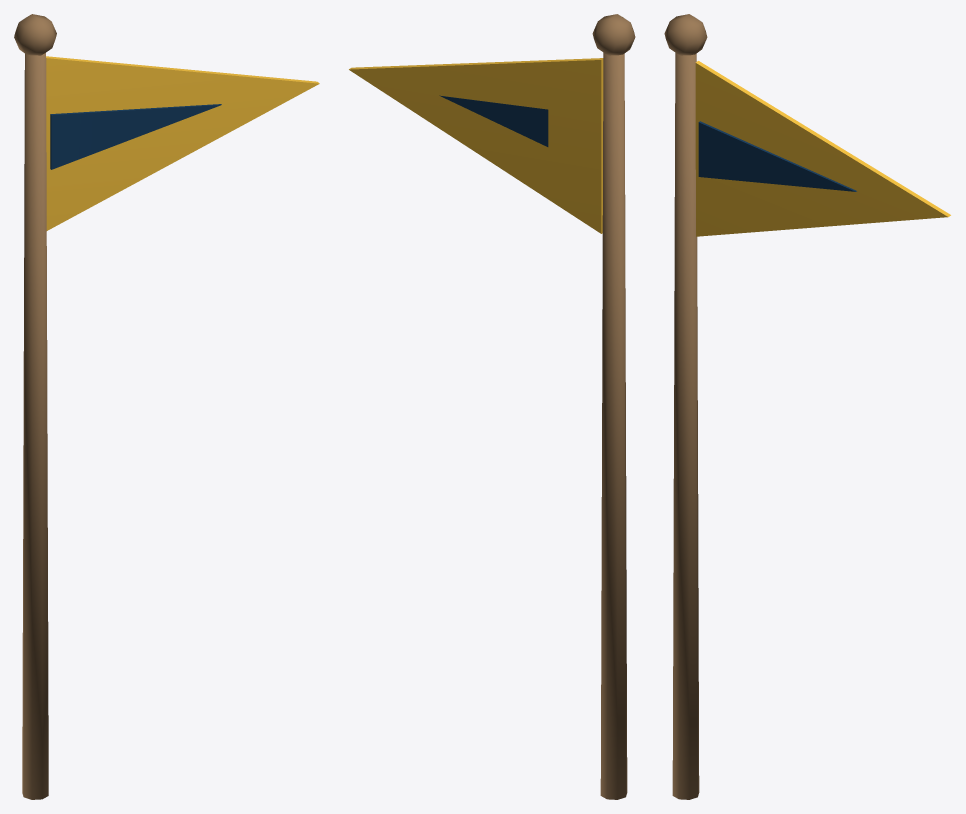
Rendered from flag_pole.glb.
3 views of the same model, side by side, from view 1: azimuth 30°, elevation 25°; view 2: azimuth 150°, elevation 25°; view 3: azimuth 330°, elevation 25° (orthographic).
Parts seen in each view (by area): view 1: Flag_Pole_Pole, Flag_Pole_Flag, Flag_Pole_Stripe; view 2: Flag_Pole_Flag, Flag_Pole_Pole, Flag_Pole_Stripe; view 3: Flag_Pole_Pole, Flag_Pole_Flag, Flag_Pole_Stripe.
Boxes of the visible parts, <box> form: Flag_Pole_Pole: <box>14,14,56,799</box>; Flag_Pole_Flag: <box>46,56,319,230</box>; Flag_Pole_Stripe: <box>50,104,221,169</box>; Flag_Pole_Flag: <box>349,58,603,233</box>; Flag_Pole_Pole: <box>592,14,635,799</box>; Flag_Pole_Stripe: <box>439,95,548,146</box>; Flag_Pole_Pole: <box>664,14,707,799</box>; Flag_Pole_Flag: <box>695,61,950,236</box>; Flag_Pole_Stripe: <box>698,121,856,191</box>.
Size of the model in its own units: 1.23 by 3.13 by 0.16.
